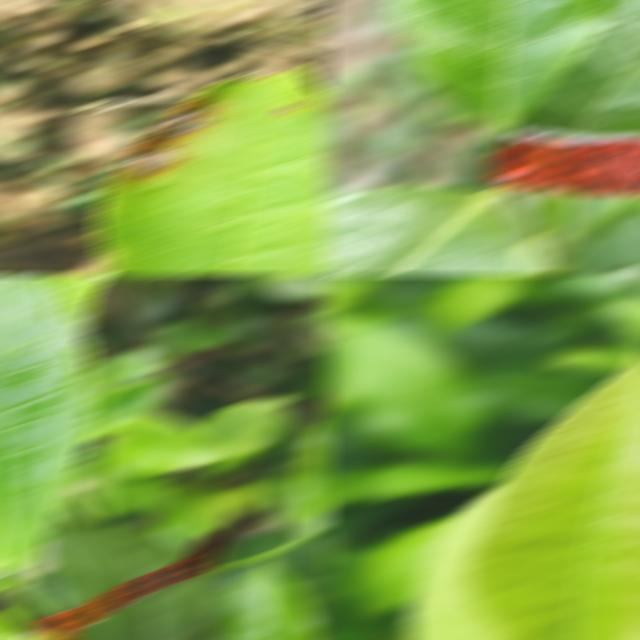Leaf: (462, 352, 640, 638), (94, 68, 331, 274), (389, 2, 622, 136), (0, 276, 94, 571), (324, 319, 486, 453), (321, 187, 526, 274), (511, 2, 640, 132), (41, 522, 198, 609), (70, 574, 226, 638), (208, 563, 321, 638), (192, 398, 292, 473), (104, 414, 233, 472), (564, 203, 640, 273), (290, 418, 331, 533)
